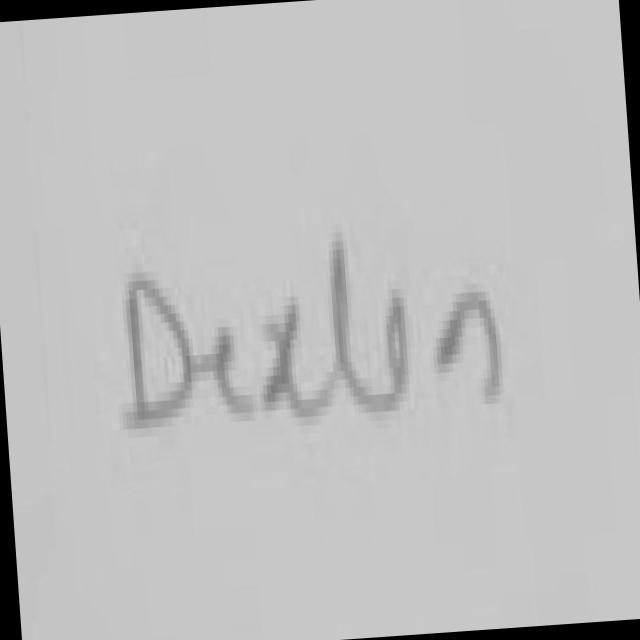D: (129, 280, 195, 415)
e: (216, 336, 253, 413)
l: (333, 241, 353, 387)
n: (440, 292, 502, 403)
o: (389, 297, 410, 397)
x: (267, 305, 338, 417)
